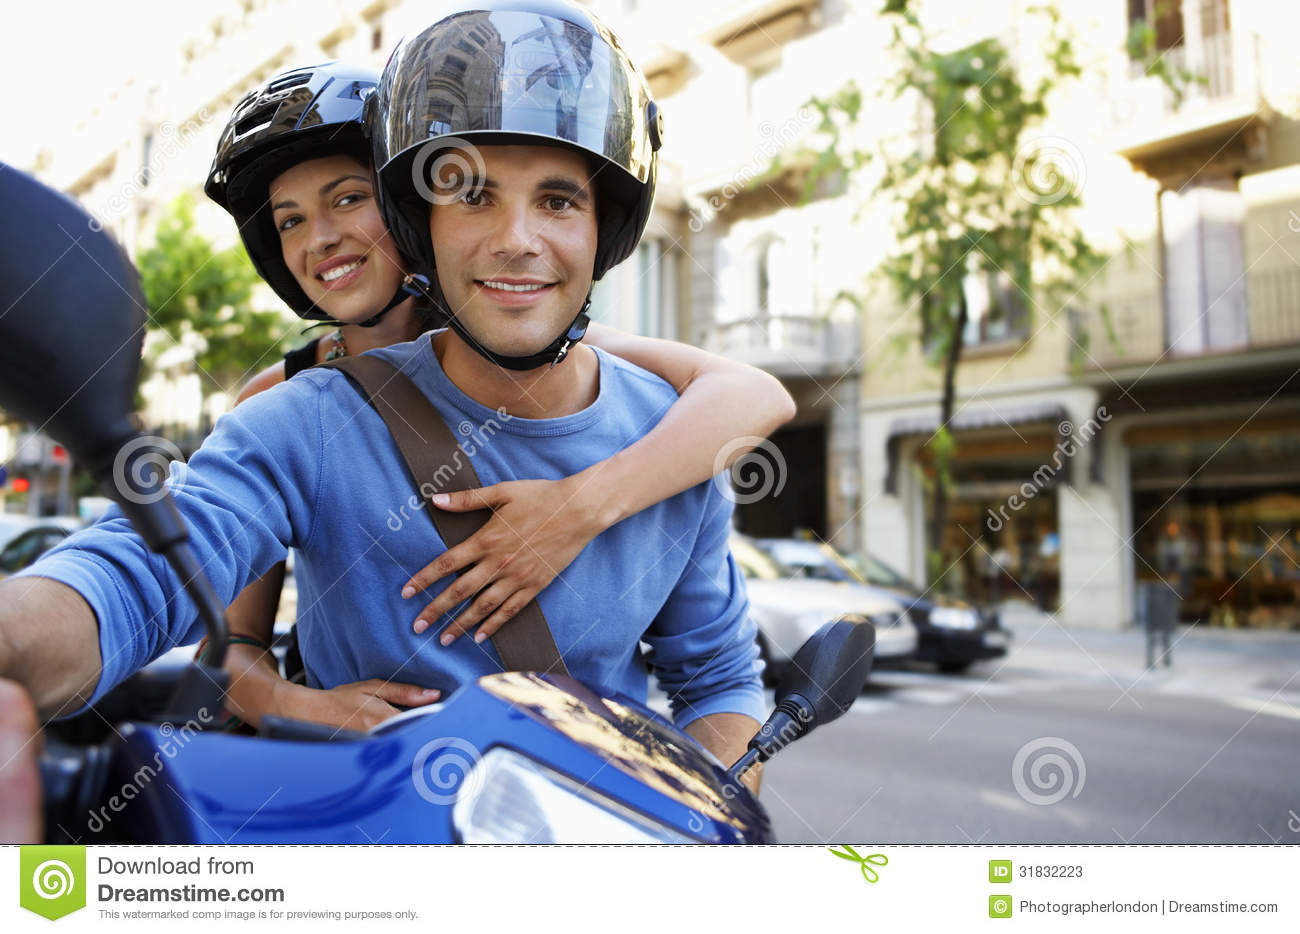helmet: (397, 10, 652, 194), (182, 61, 412, 216)
